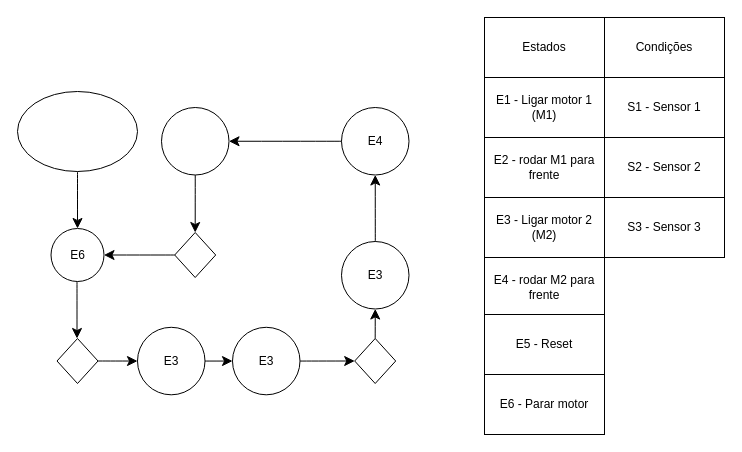
Some shapes in this 742 by 452 pixel diagram are drawn without their labels. Here are the shapes that lost their labels. From the top down, the centre of each, then its label:
the point at 77,131: Início
the point at 194,140: E5
the point at 195,255: S3
the point at 77,361: S1
the point at 375,361: S2
